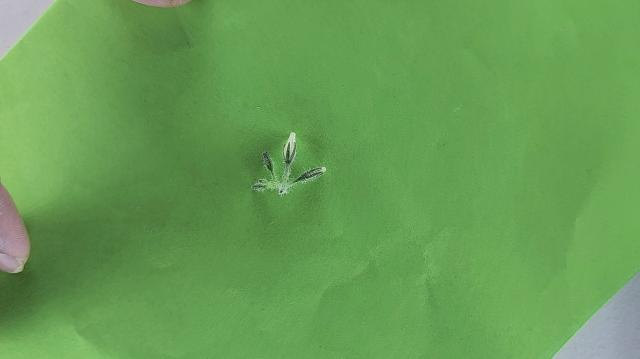Flower Bud: (292, 167, 326, 184), (283, 132, 297, 163), (251, 179, 273, 191), (262, 151, 273, 173)
